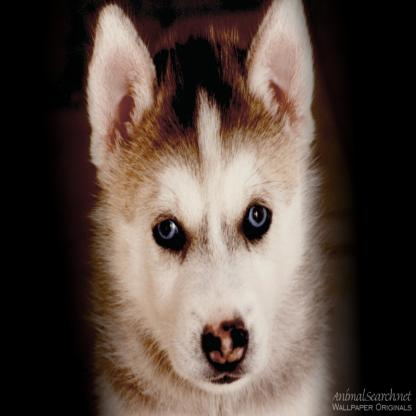dog: (83, 4, 331, 414)
